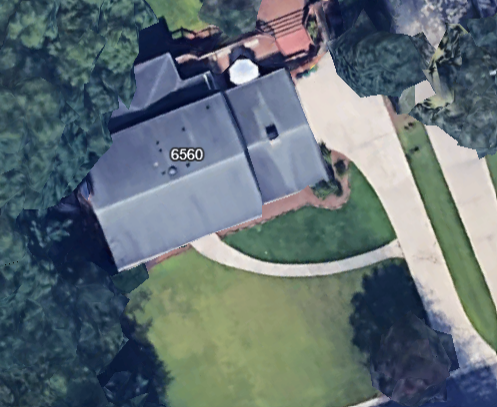driveway: (286, 41, 497, 389)
